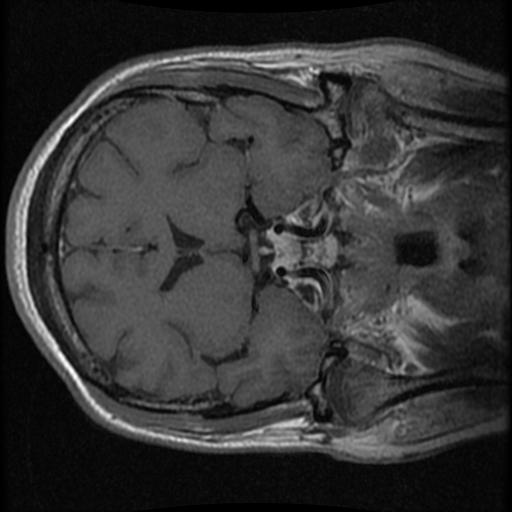pituitary tumour: (273, 233, 300, 268)
